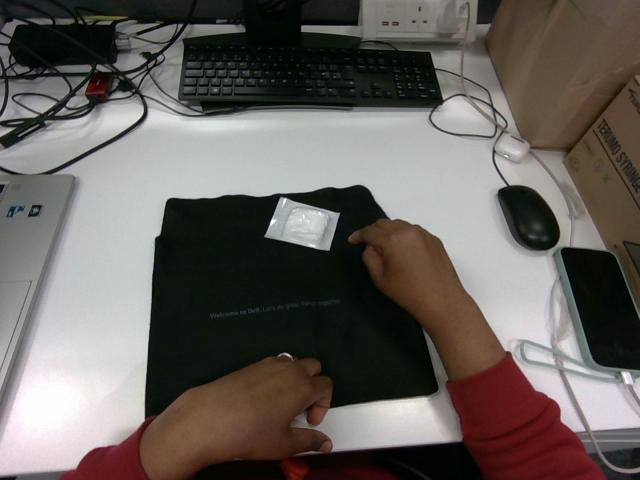gauze: (265, 197, 339, 250)
